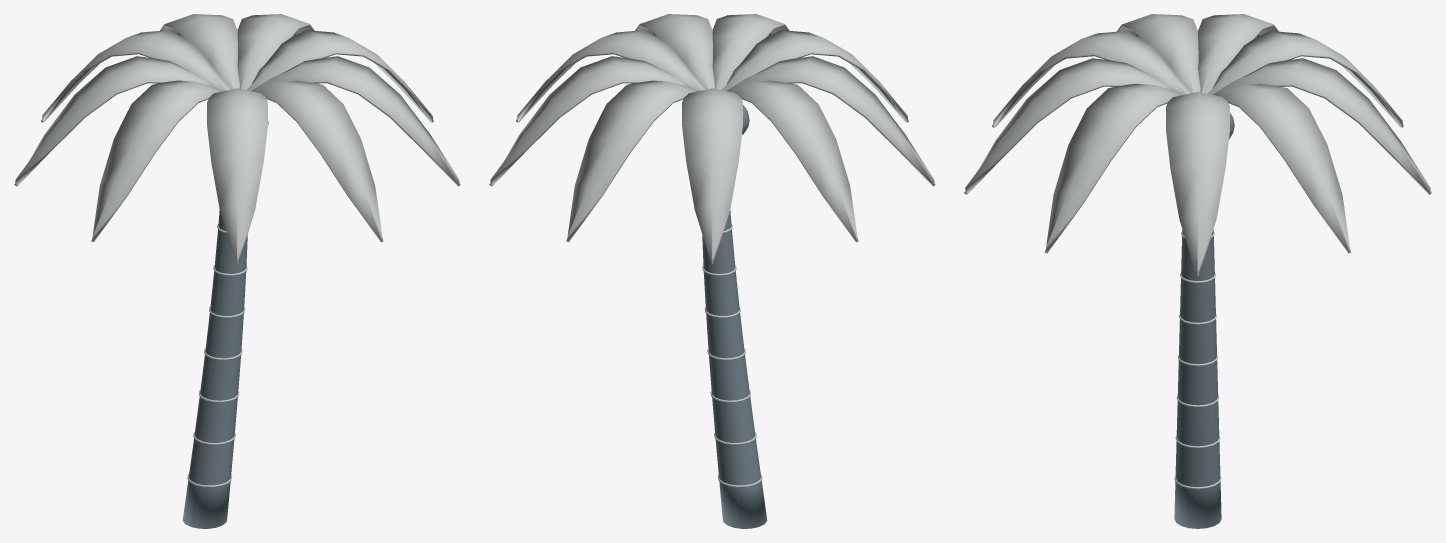
Rendered from palm-tree.glb.
3 views of the same model, side by side, from view 1: azimuth 30°, elevation 25°; view 2: azimuth 150°, elevation 25°; view 3: azimuth 270°, elevation 25° (orthographic). The views are drawn at different scales.
Visible parts, largest first — view 1: curved_trunk, frond_3, frond_4, frond_2, frond_1, frond_5, frond_6, frond_0, frond_7, frond_8; view 2: curved_trunk, frond_6, frond_7, frond_5, frond_4, frond_8, frond_0, frond_3, frond_1, frond_2; view 3: curved_trunk, frond_0, frond_1, frond_8, frond_7, frond_2, frond_3, frond_6, frond_4, frond_5.
Boxes of the visible parts, x1,y1,x2,y2 form: curved_trunk: (182,210,247,528); frond_3: (207,88,267,262); frond_4: (92,80,222,240); frond_2: (252,80,382,240); frond_1: (251,56,459,186); frond_5: (15,56,223,186); frond_6: (42,30,230,122); frond_0: (247,30,432,122); frond_7: (160,14,239,89); frond_8: (237,14,314,89); curved_trunk: (702,210,767,528); frond_6: (682,88,742,262); frond_7: (567,80,697,240); frond_5: (727,80,857,240); frond_4: (726,56,934,186); frond_8: (490,56,698,186); frond_0: (517,30,705,122); frond_3: (722,30,907,122); frond_1: (635,14,714,89); frond_2: (712,14,789,89); curved_trunk: (1174,229,1221,528); frond_0: (1166,92,1229,274); frond_1: (1045,83,1182,252); frond_8: (1213,83,1350,252); frond_7: (1212,58,1430,194); frond_2: (965,58,1183,194); frond_3: (993,31,1190,127); frond_6: (1207,31,1402,127); frond_4: (1117,14,1200,92); frond_5: (1198,14,1278,93).
Size of the model in its own units: 3.51 by 4.01 by 3.56.
